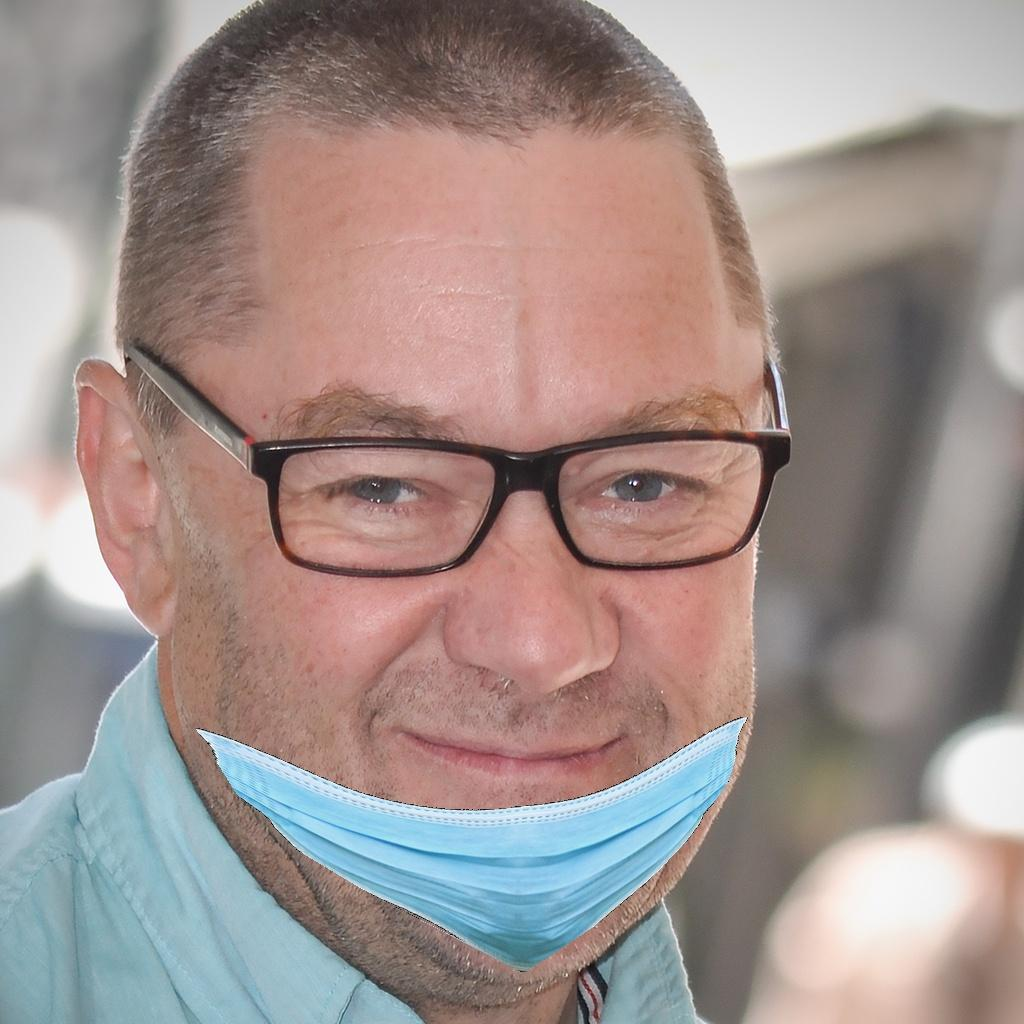Máscara Incorreta: (181, 235, 765, 936)
